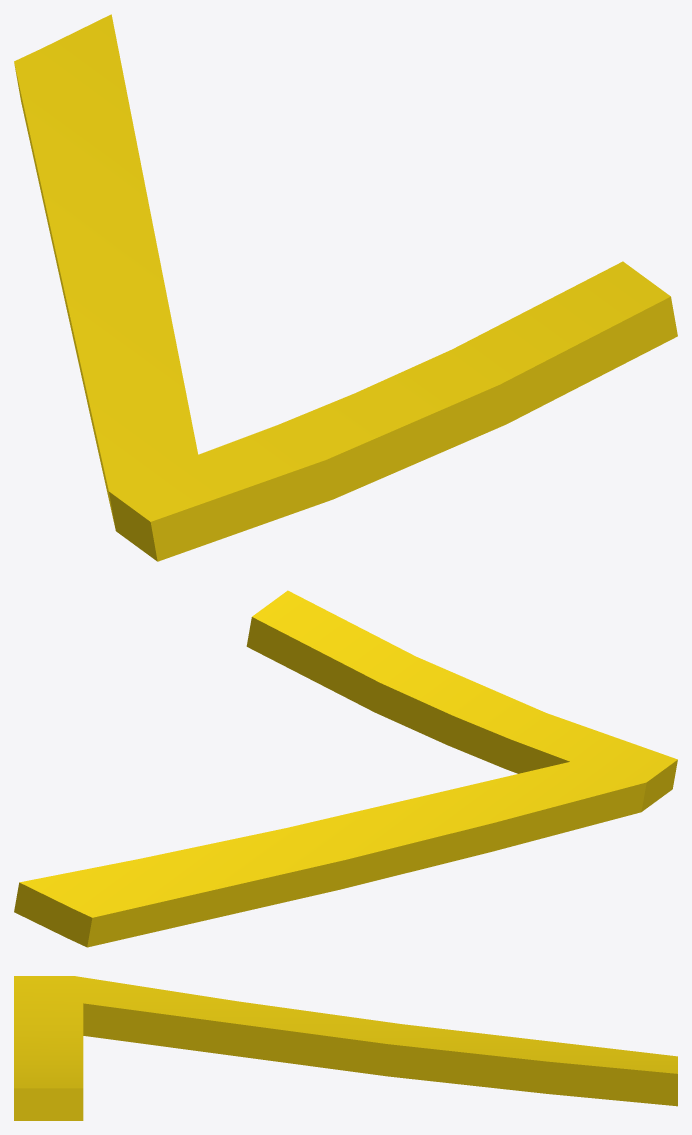
File: Number_7.gltf
3 renders of one model, top to bottom at view 1: azimuth 30°, elevation 25°; view 2: azimuth 150°, elevation 25°; view 3: azimuth 270°, elevation 25°, orthographic. The views are drawn at different scales.
Parts seen in each view (by area): view 1: Sub_5_Cell_1_1_Number_7; view 2: Sub_5_Cell_1_1_Number_7; view 3: Sub_5_Cell_1_1_Number_7.
Part boxes in pixels (<box>): Sub_5_Cell_1_1_Number_7: <box>14,14,677,561</box>; Sub_5_Cell_1_1_Number_7: <box>14,590,677,947</box>; Sub_5_Cell_1_1_Number_7: <box>14,976,677,1120</box>.
Bounding box in the file's own units: 0.0167 × 0.00424 × 0.0252.
